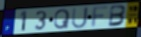1: (20, 10, 28, 33)
3: (34, 10, 48, 31)
B: (108, 4, 128, 28)
F: (90, 5, 111, 29)
Q: (53, 9, 71, 31)
U: (71, 7, 89, 30)
